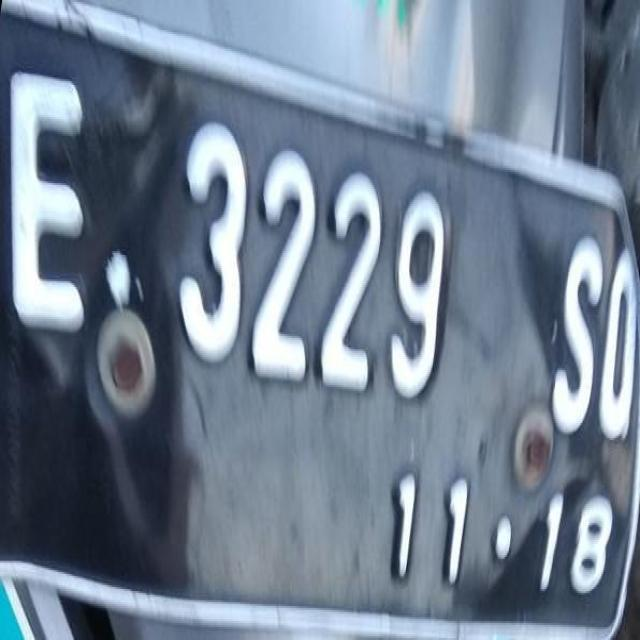2: (238, 117, 330, 402), (310, 137, 398, 415)
3: (164, 88, 257, 400)
9: (373, 158, 460, 426)
E: (5, 45, 93, 347)
Q: (599, 245, 640, 442)
S: (536, 215, 612, 457)
